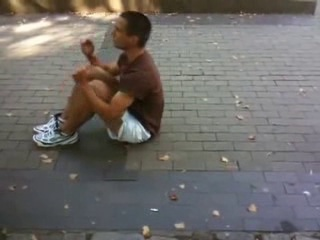sit_up: (43, 20, 146, 139)
